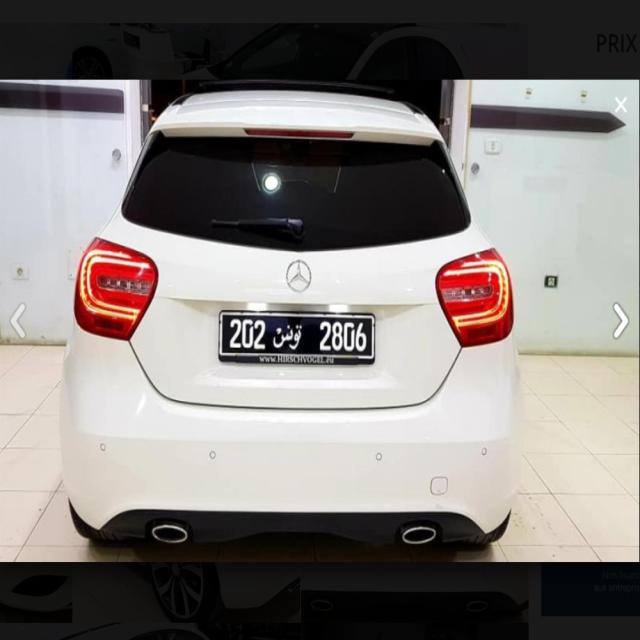LP: (216, 308, 379, 365)
